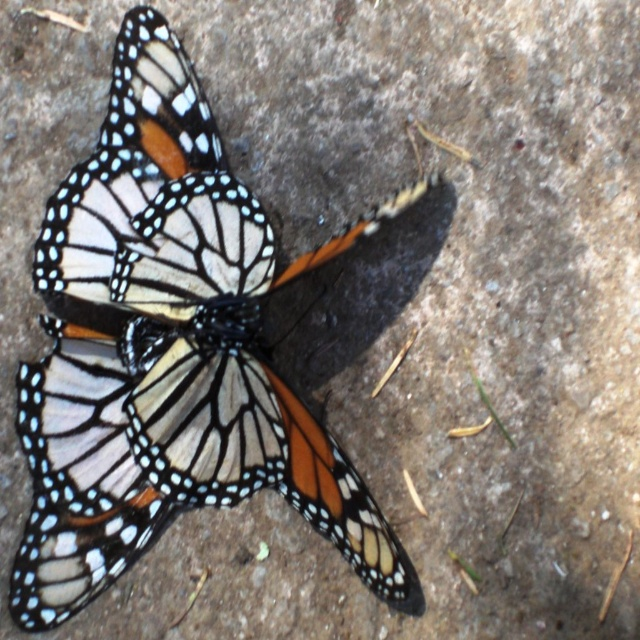Butterfly: (22, 15, 436, 623)
